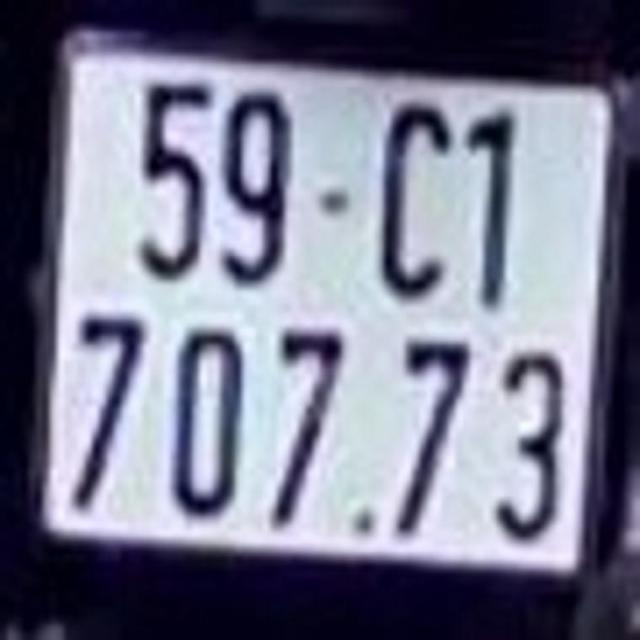0: (170, 311, 242, 520)
1: (458, 92, 520, 308)
3: (491, 330, 568, 556)
5: (140, 74, 210, 284)
7: (394, 324, 472, 543), (273, 316, 343, 526), (72, 302, 139, 508)
9: (222, 72, 292, 290)
C: (378, 92, 452, 298)
